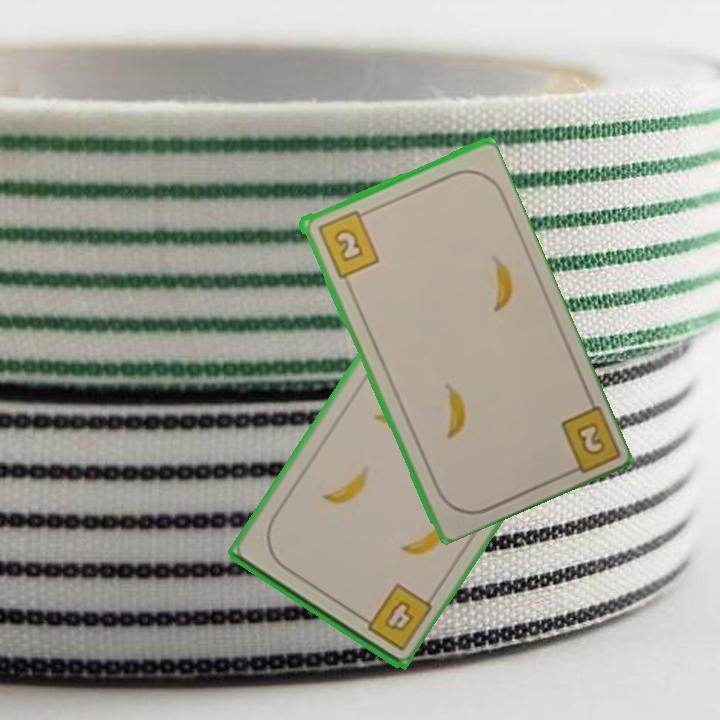2b: (313, 206, 382, 281), (556, 400, 620, 479)
4b: (353, 579, 436, 654)
